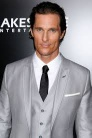male: (28, 2, 71, 62)
